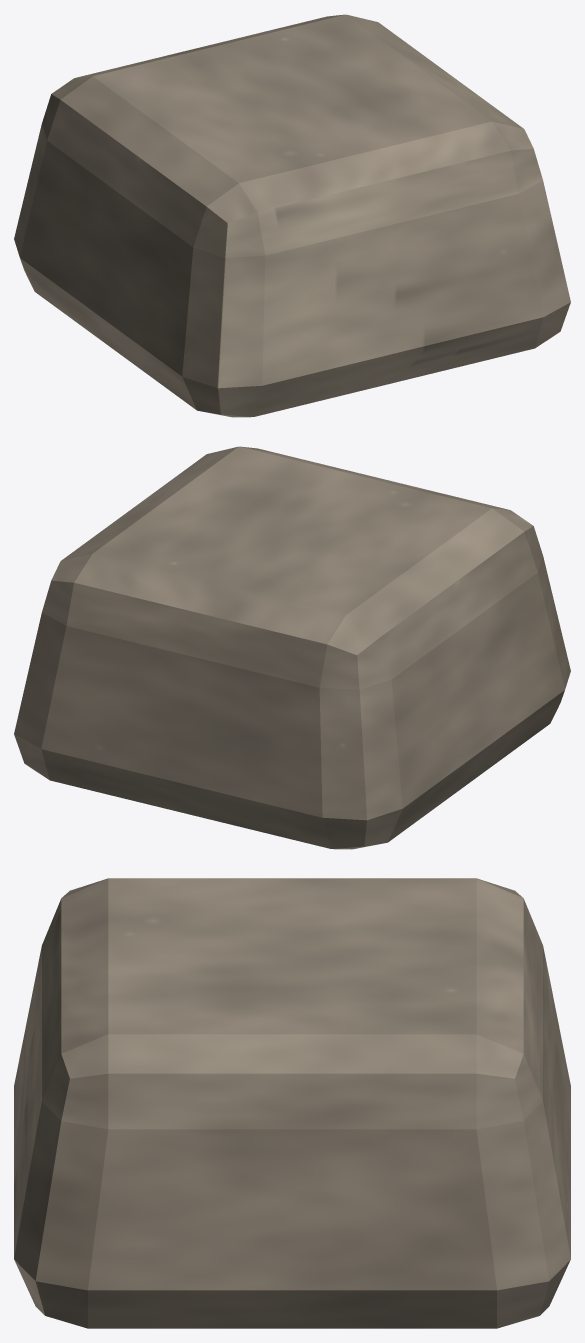
The model's file is terrain_stone.2.glb.
3 views of the same model, one above another, from view 1: azimuth 30°, elevation 25°; view 2: azimuth 150°, elevation 25°; view 3: azimuth 270°, elevation 25° (orthographic). The views are drawn at different scales.
Parts seen in each view (by area): view 1: terrain_stone.2; view 2: terrain_stone.2; view 3: terrain_stone.2.
Part boxes in pixels (x1,y1,x2,y2): terrain_stone.2: [14, 14, 570, 417]; terrain_stone.2: [14, 446, 570, 849]; terrain_stone.2: [14, 878, 570, 1328].
Size of the model in its own units: 0.98 by 0.55 by 0.98.
Materials: 1 (1 with a texture image).
